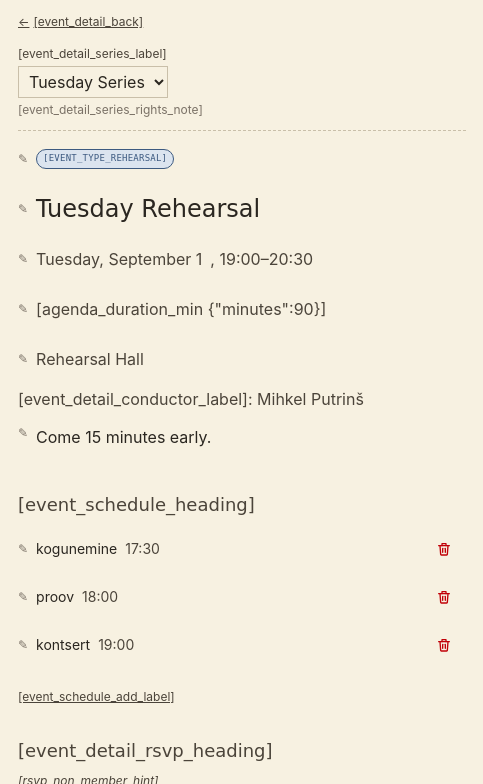
it: #262 — add flow (in-situ family, #239/#249 single-name rule) › time entry is the TimeSelect composite (native selects, 24h hours, 5-minute steps by construction) plus a native date input, under a visible datetime label
The image size is (483, 784).
Expected: the heading with test id "event-detail-name" shows "Tuesday Rehearsal", [18,187,466,231]
Click the button with test id "event-schedule-add" at (96,697), box [18,675,175,719]
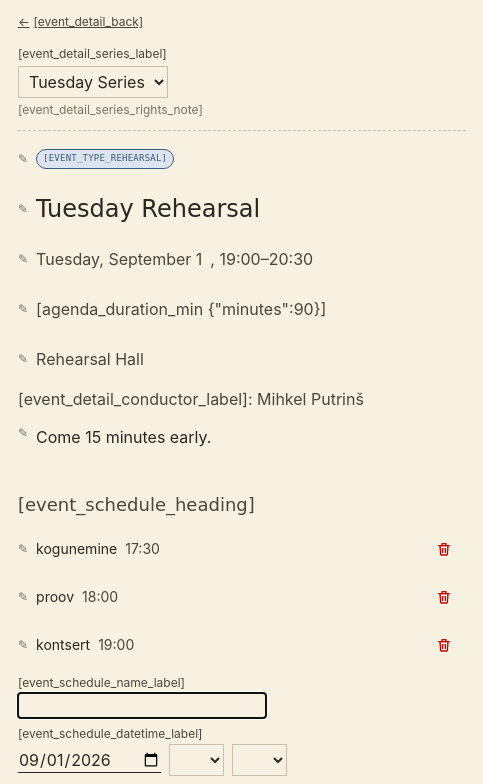
Expected: the field with test id "event-schedule-add-name" is shown, [18,693,266,718]
Expected: the date field with test id "event-schedule-add-datetime-date" is shown, [18,748,161,772]
Expected: the dropdown with test id "event-schedule-add-datetime-hour" is shown, [169,744,224,776]
